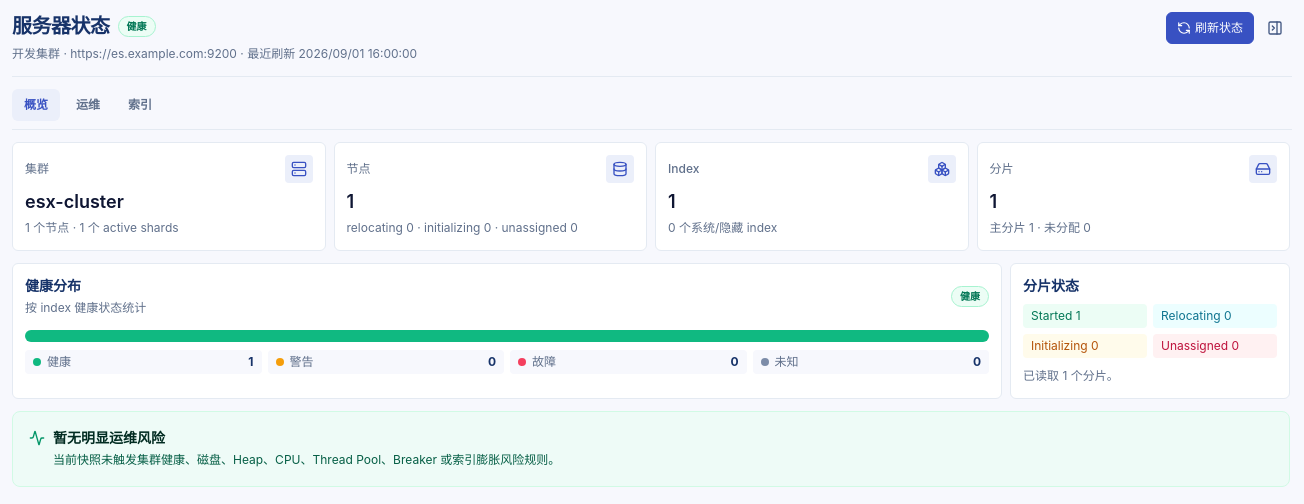
StatusPanel › nodeCount 为 0 的运维快照同样不写入趋势
Click the button "运维": [88, 105] box [64,89,112,121]
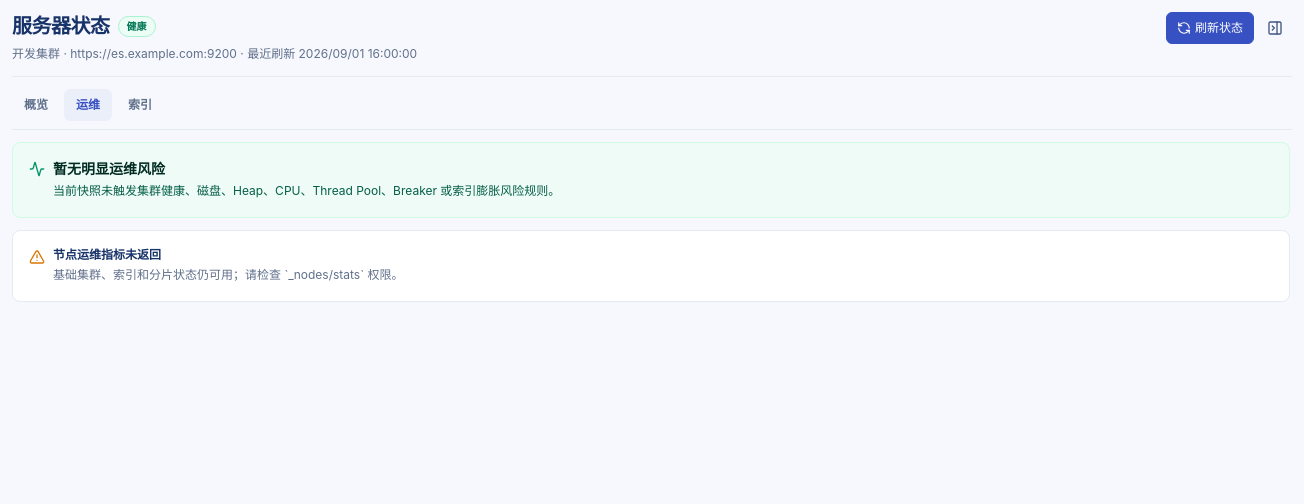
Result: the text "节点运维指标未返回" is shown at [53,247,161,262]
